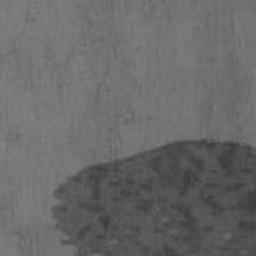Oil spot: (50, 134, 256, 256)
